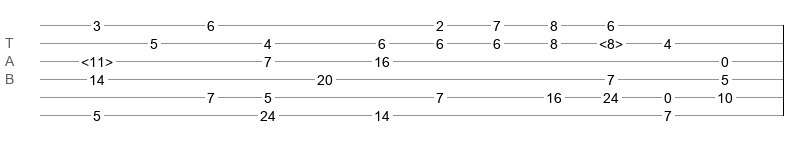0: (664, 90, 672, 100), (721, 54, 729, 64)
10: (717, 90, 733, 100)
14: (89, 72, 105, 82), (374, 108, 390, 118)
16: (374, 54, 390, 64), (546, 90, 562, 100)
2: (436, 18, 444, 28)
20: (317, 72, 333, 82)
24: (260, 108, 276, 118), (603, 90, 619, 100)
3: (93, 18, 101, 28)
4: (264, 36, 272, 46), (664, 36, 672, 46)
5: (93, 108, 101, 118), (150, 36, 158, 46), (264, 90, 272, 100), (721, 72, 729, 82)
6: (207, 18, 215, 28), (378, 36, 386, 46), (436, 36, 444, 46), (493, 36, 501, 46), (607, 18, 615, 28)
7: (207, 90, 215, 100), (264, 54, 272, 64), (436, 90, 444, 100), (493, 18, 501, 28), (607, 72, 615, 82), (664, 108, 672, 118)
8: (550, 18, 558, 28), (550, 36, 558, 46)
harmonic: (81, 54, 113, 64), (599, 36, 623, 46)
